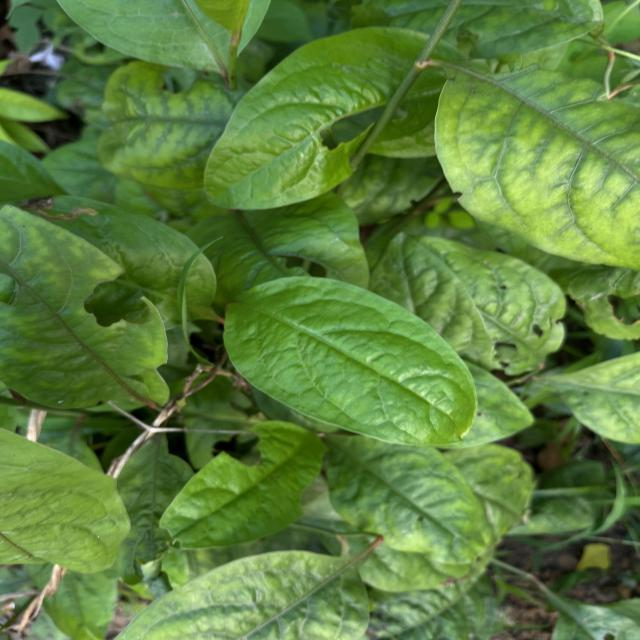Plumbago indica: (190, 24, 455, 213), (225, 275, 483, 454), (316, 442, 514, 570), (152, 424, 326, 552)
